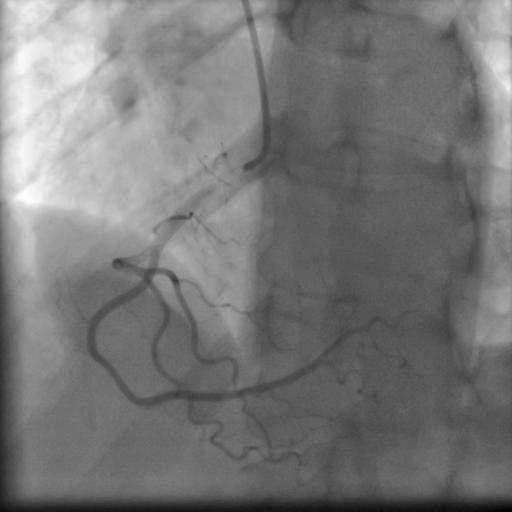Stenosis: (100, 349, 127, 391)
